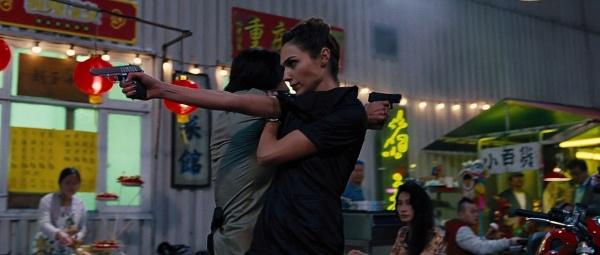Gun: (89, 65, 144, 99), (368, 92, 403, 105)
